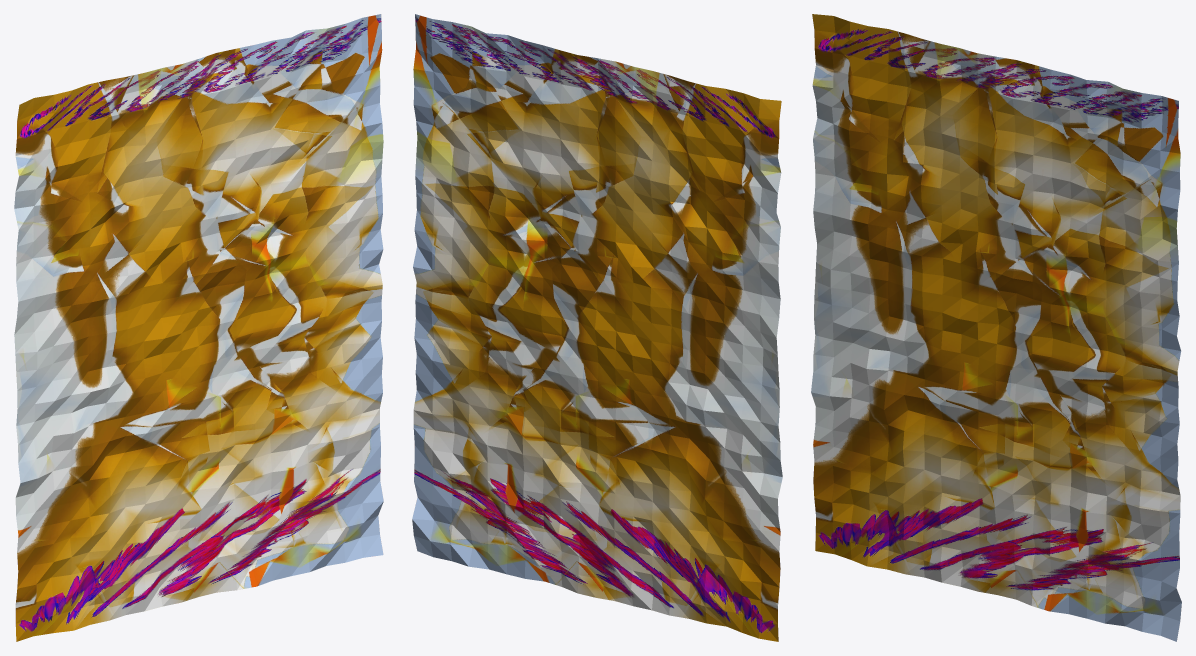
Rendered from poster-rig-3.glb.
3 views of the same model, side by side, from view 1: azimuth 30°, elevation 25°; view 2: azimuth 150°, elevation 25°; view 3: azimuth 330°, elevation 25° (orthographic).
Parts seen in each view (by area): view 1: Plane (Copy); view 2: Plane (Copy); view 3: Plane (Copy).
Boxes of the visible parts, x1,y1,x2,y2 form: Plane (Copy): (14,14,383,641); Plane (Copy): (412,14,782,641); Plane (Copy): (811,14,1181,641).
Bounding box in the file's own units: 297 × 420 × 9.4.
1 material, 1 textured.
